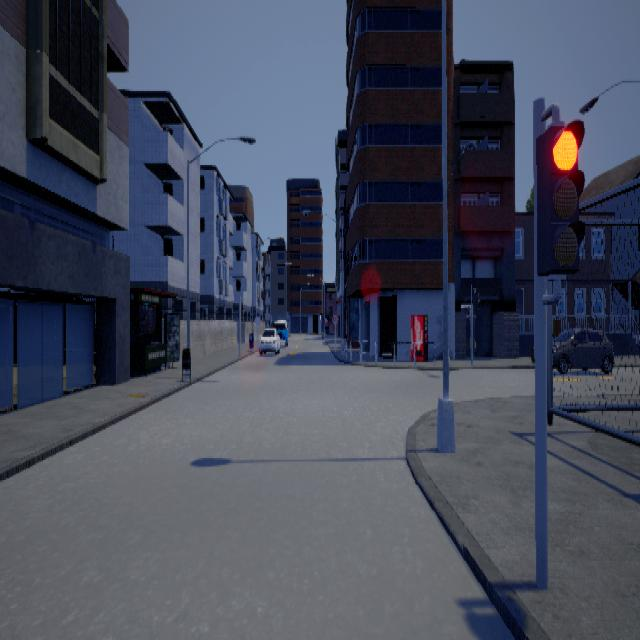red_light: (535, 101, 584, 303)
traffic_sign: (331, 312, 338, 324)
vehicle: (552, 327, 613, 372), (258, 318, 280, 356), (274, 315, 286, 347)
